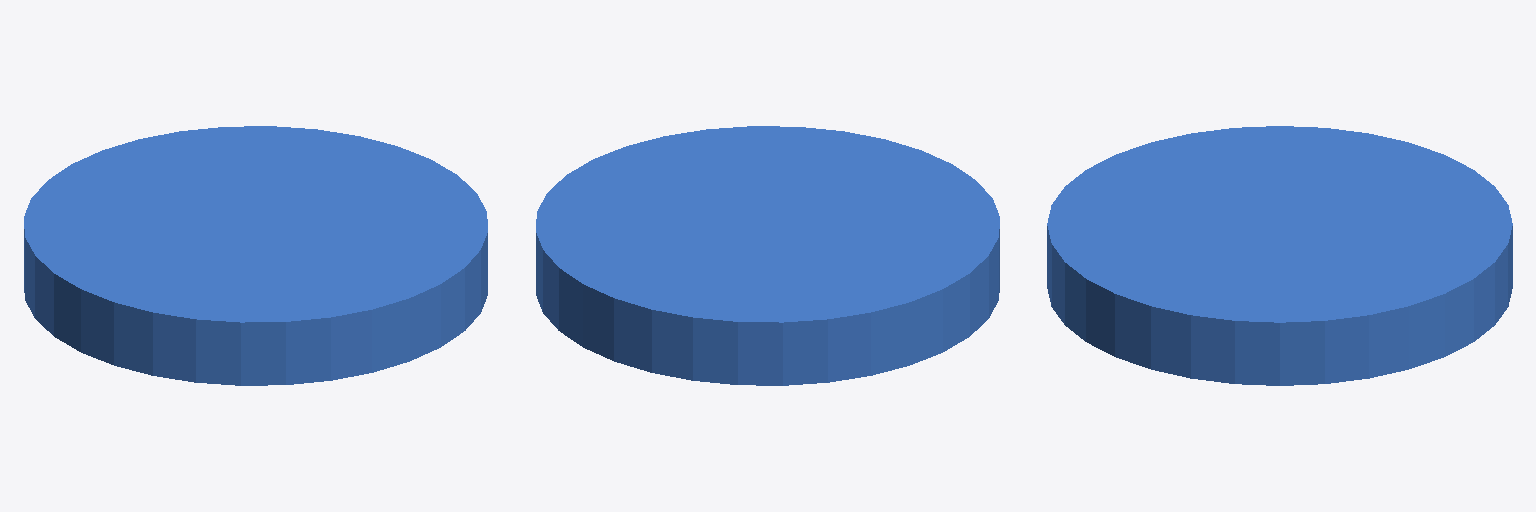
File: coin_1_OBJ.obj
3 renders of one model, left to right at view 1: azimuth 30°, elevation 25°; view 2: azimuth 150°, elevation 25°; view 3: azimuth 270°, elevation 25°, orthographic.
Visible parts, largest first — view 1: Cylinder001; view 2: Cylinder001; view 3: Cylinder001.
Boxes of the visible parts, <box> form: Cylinder001: <box>24,126,487,385</box>; Cylinder001: <box>536,126,999,385</box>; Cylinder001: <box>1047,126,1512,385</box>.
Bounding box in the file's own units: 1.57 × 0.2362 × 1.57.